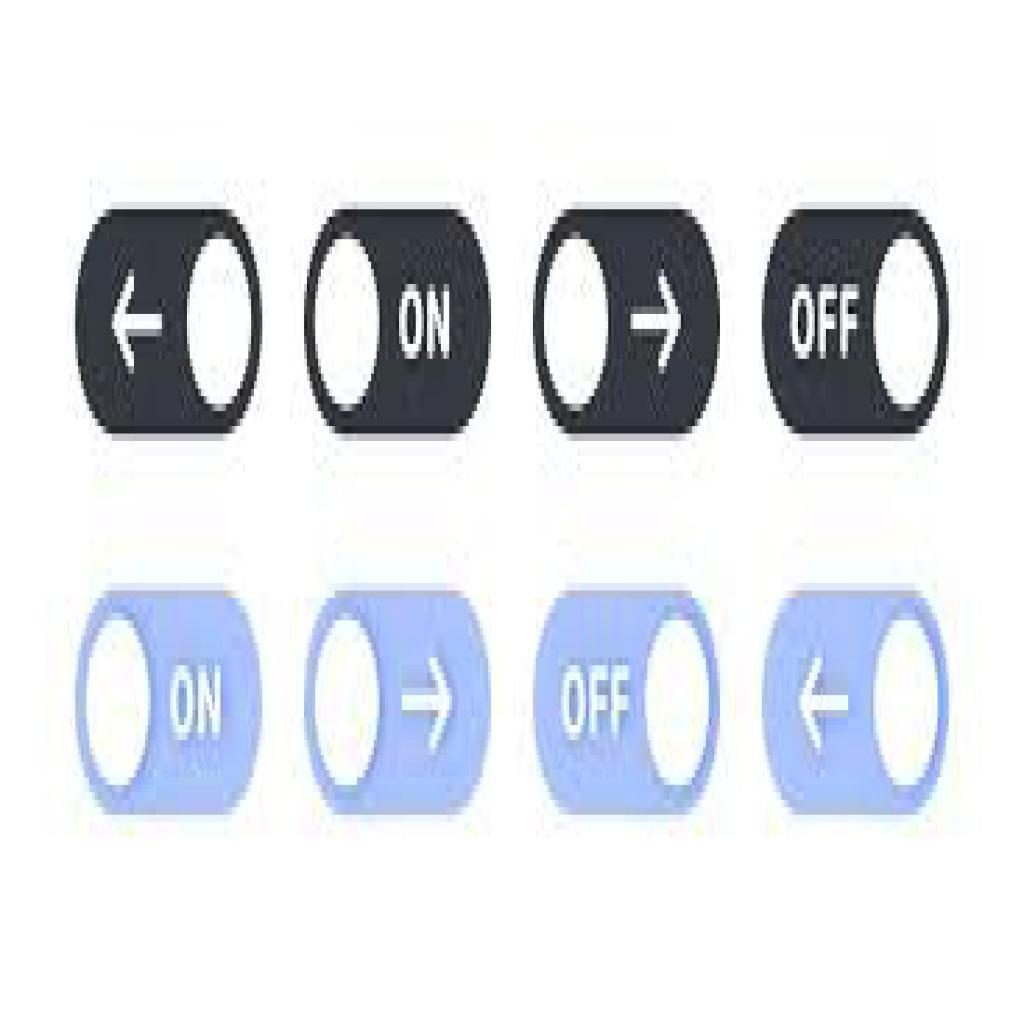switch: (74, 210, 270, 450), (764, 591, 967, 818), (71, 591, 272, 819), (529, 205, 721, 442), (301, 589, 502, 815), (535, 588, 728, 817), (299, 212, 490, 443), (759, 212, 945, 437)
